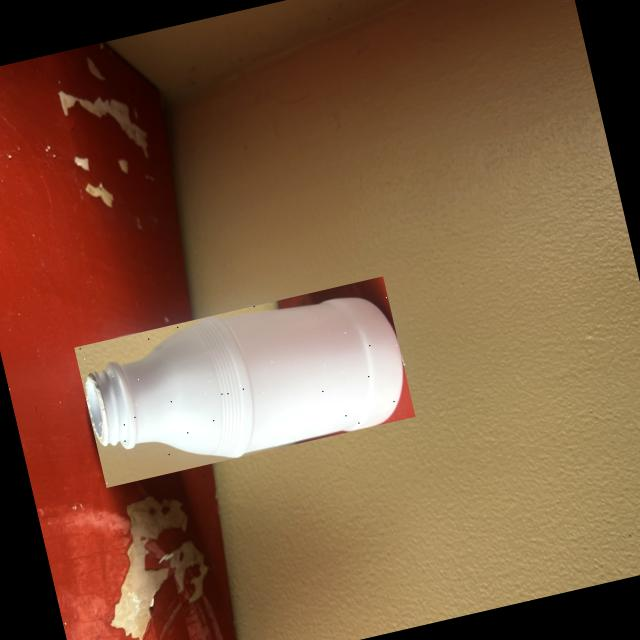HDPE_Bottle: (86, 298, 402, 457)
